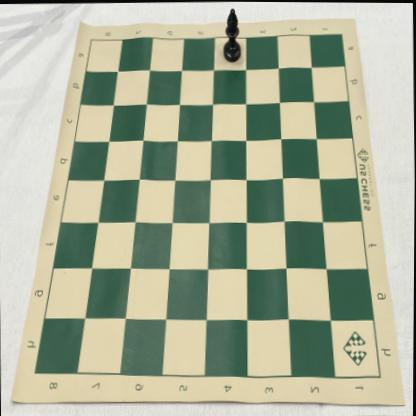black-bishop: (222, 8, 241, 62)
